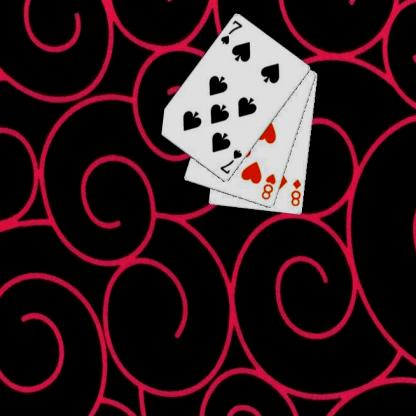7S: (218, 18, 244, 46), (218, 147, 243, 175)
8D: (288, 176, 302, 208)
8H: (259, 171, 277, 201)
